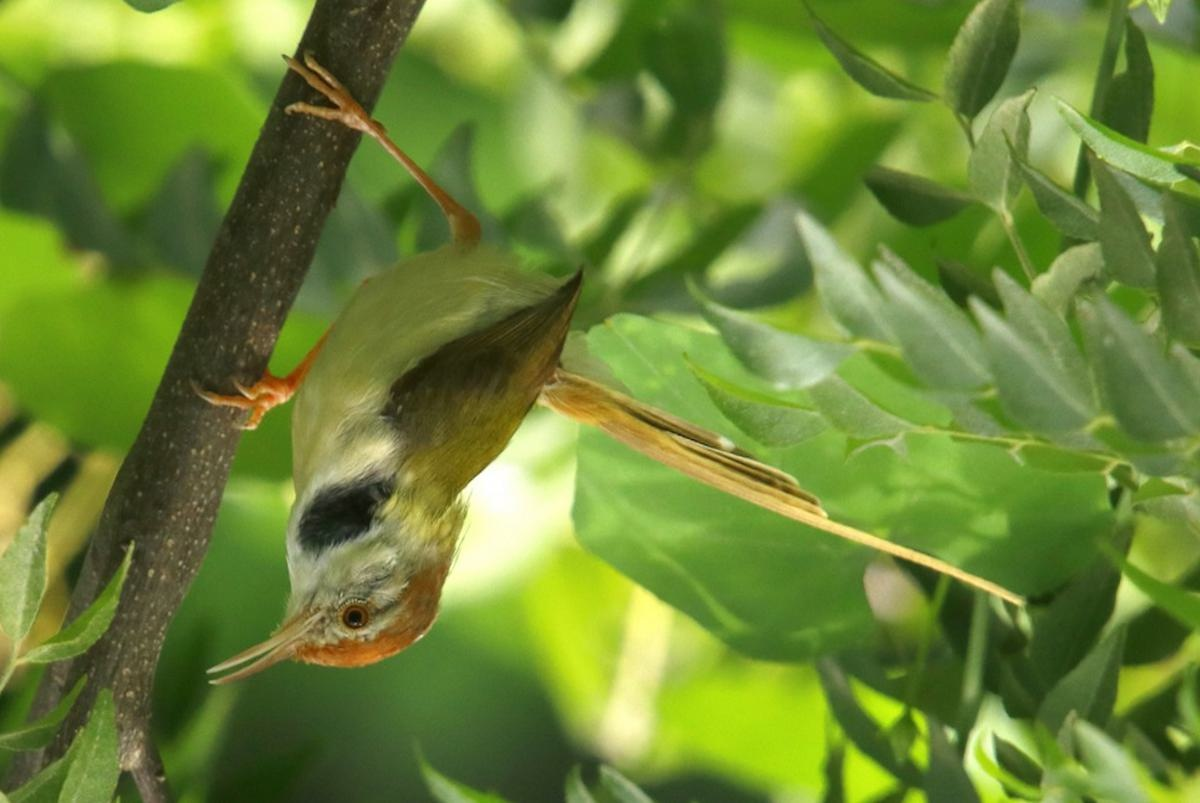tailorbird: (158, 129, 874, 724)
